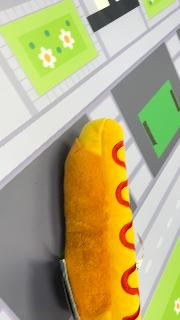hotdog: (62, 117, 142, 319)
